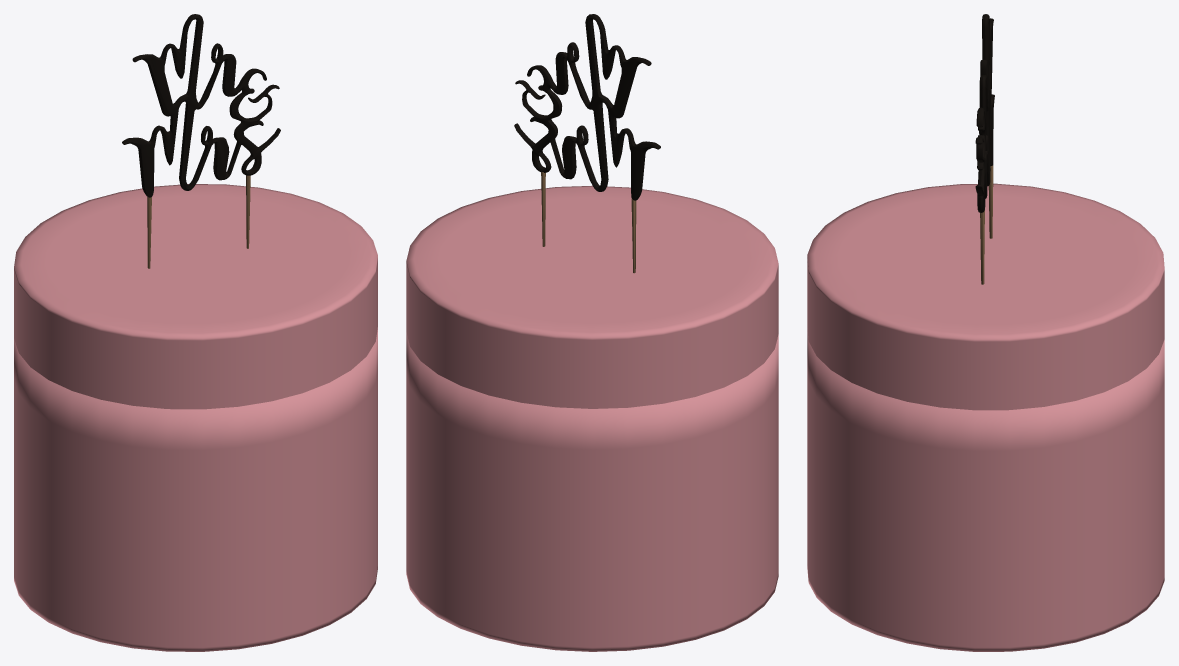
Rendered from 1-tier-blush-none-mrms.glb.
3 renders of one model, left to right at view 1: azimuth 30°, elevation 25°; view 2: azimuth 150°, elevation 25°; view 3: azimuth 270°, elevation 25°, orthographic.
Visible parts, largest first — view 1: Cylinder.019, mrms.001; view 2: Cylinder.019, mrms.001; view 3: Cylinder.019, mrms.001.
Boxes of the visible parts, x1,y1,x2,y2 form: Cylinder.019: (14, 184, 377, 651); mrms.001: (122, 14, 280, 268); Cylinder.019: (406, 185, 778, 651); mrms.001: (514, 14, 660, 273); Cylinder.019: (807, 183, 1164, 651); mrms.001: (975, 14, 994, 284).
Bounding box in the file's own units: 2.63 × 4.41 × 2.55.
